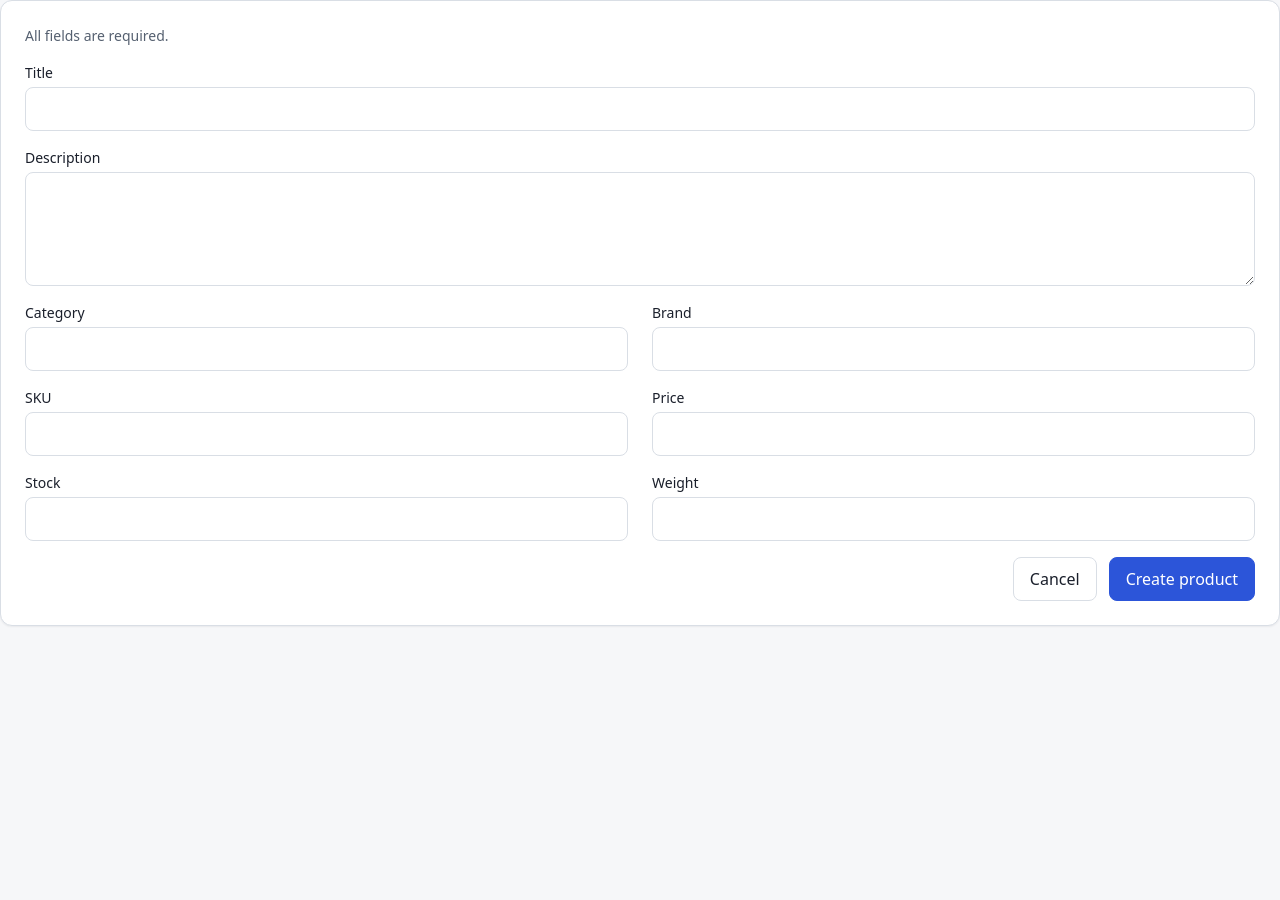
Test: ProductForm › client validation › shows "Required" on every blank field, sends nothing and focuses the first field
Click the button "Create product" at (1182, 579), box [1109,557,1255,601]
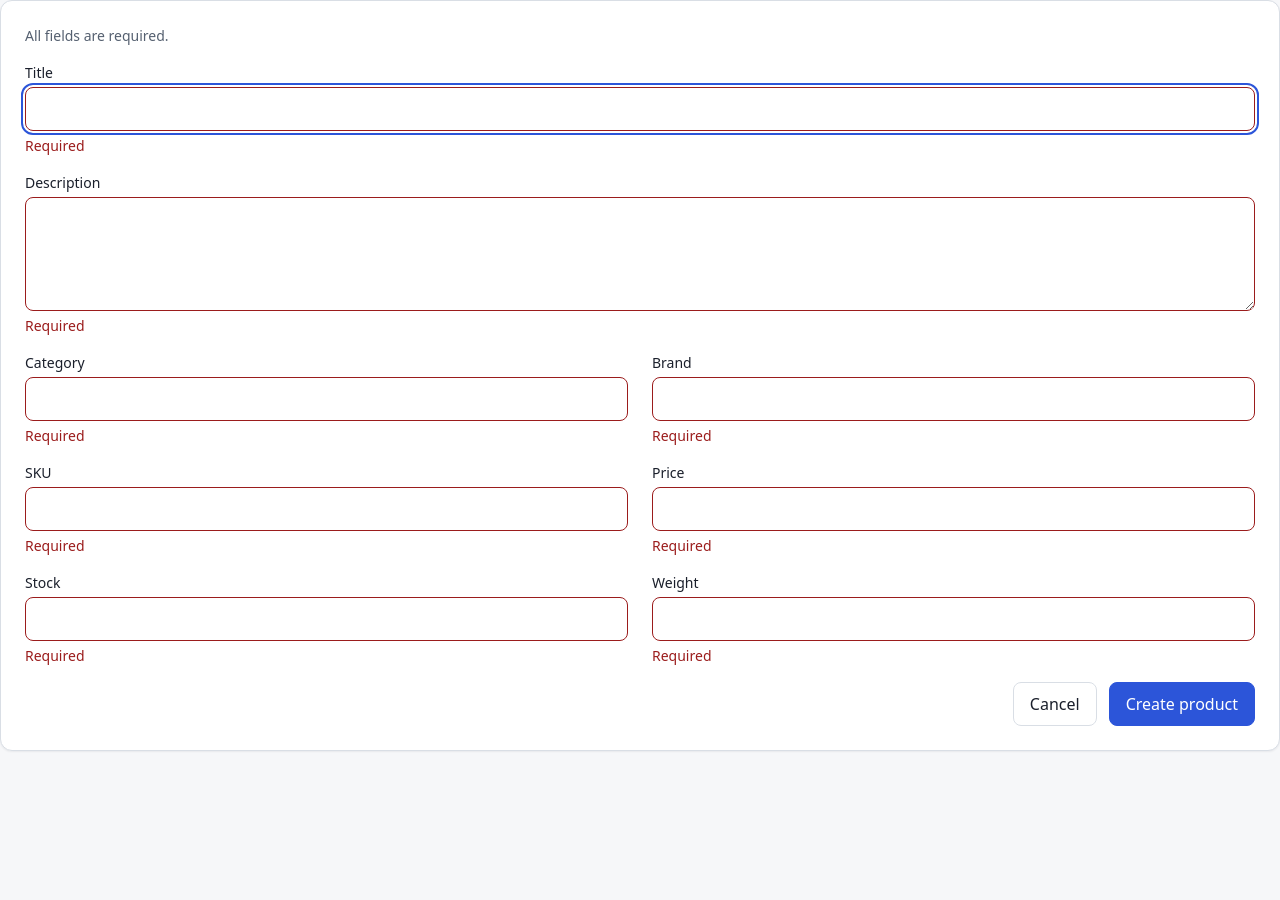
Result: the text "Required" is shown 8 times
